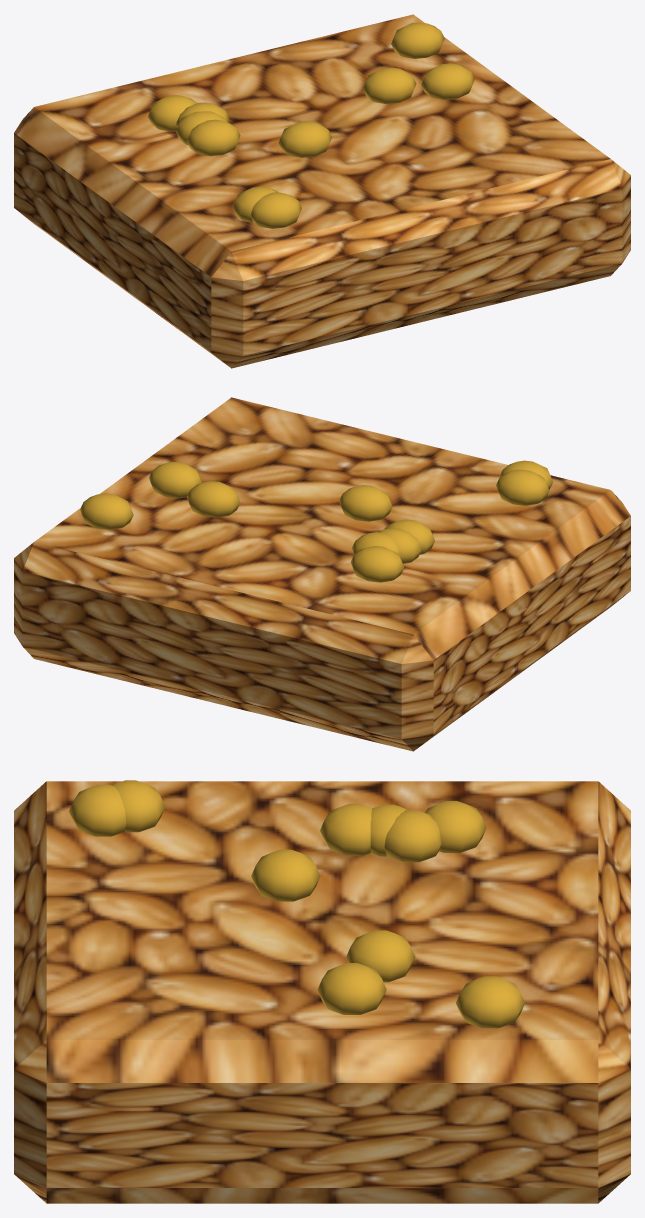
Rendered from CoopCozy_Fill1.fbx.
3 views of the same model, one above another, from view 1: azimuth 30°, elevation 25°; view 2: azimuth 150°, elevation 25°; view 3: azimuth 270°, elevation 25° (orthographic). The views are drawn at different scales.
Parts seen in each view (by area): view 1: CoopCozy_Fill1; view 2: CoopCozy_Fill1; view 3: CoopCozy_Fill1.
Part boxes in pixels (x1,y1,x2,y2): CoopCozy_Fill1: (14,14,630,368); CoopCozy_Fill1: (14,397,630,751); CoopCozy_Fill1: (14,780,630,1203).
Size of the model in its own units: 0.45 by 0.146 by 0.41.
